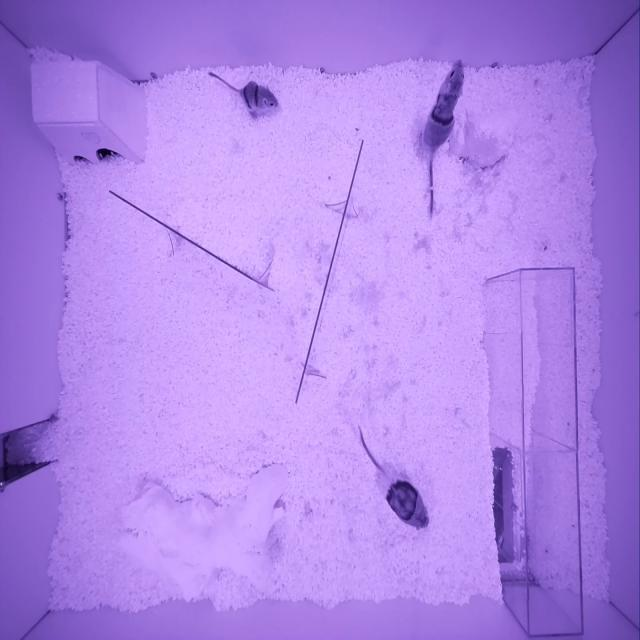adult_back: (383, 474, 429, 530)
adult_front: (422, 59, 464, 153)
pup_h_stripe: (241, 81, 279, 110)
